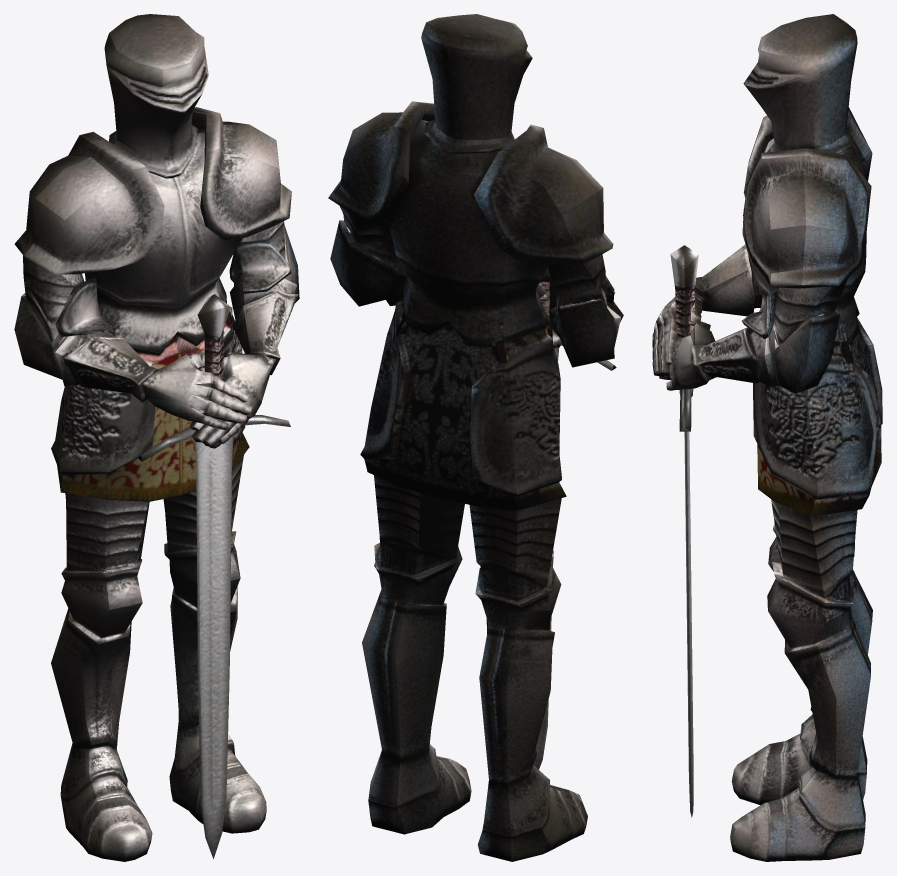
The model's file is KnightSword.glb.
3 renders of one model, left to right at view 1: azimuth 30°, elevation 25°; view 2: azimuth 150°, elevation 25°; view 3: azimuth 270°, elevation 25°, orthographic. The views are drawn at different scales.
Parts seen in each view (by area): view 1: Box03; view 2: Box03; view 3: Box03.
Part boxes in pixels (x1=…): Box03: x1=14, y1=14, x2=299, y2=861; Box03: x1=328, y1=14, x2=623, y2=861; Box03: x1=652, y1=14, x2=882, y2=861.
Bounding box in the file's own units: 0.6966 × 1.88 × 0.4943.
Materials: 1 (1 with a texture image).
